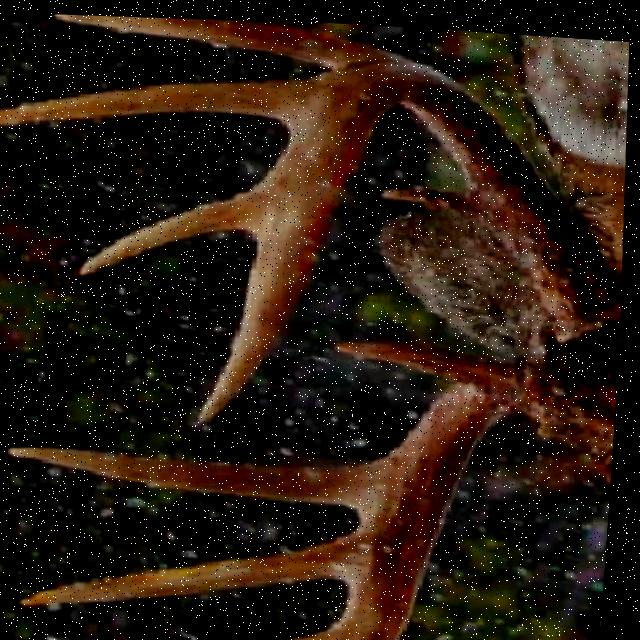L-F: (199, 52, 620, 419)
L-G1: (379, 179, 494, 218)
L-G2: (49, 12, 406, 63)
L-G3: (0, 66, 322, 128)
L-G4: (77, 161, 276, 276)
R-G1: (334, 332, 483, 376)
R-G2: (9, 443, 396, 508)
R-G3: (26, 522, 365, 603)
R-G4: (264, 617, 341, 640)
R-R: (338, 348, 530, 640)
